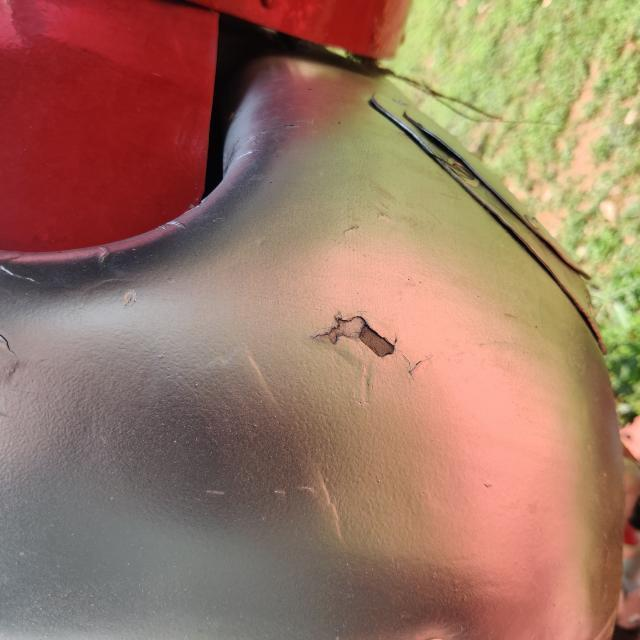Paint-off: (316, 316, 395, 358)
